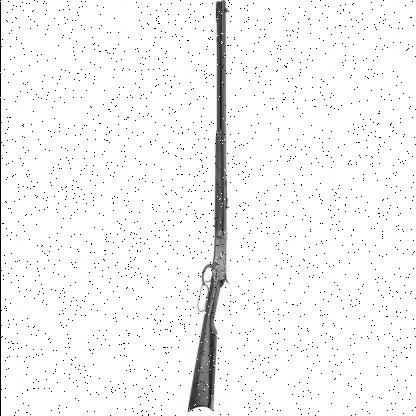rifle: (159, 0, 247, 415)
